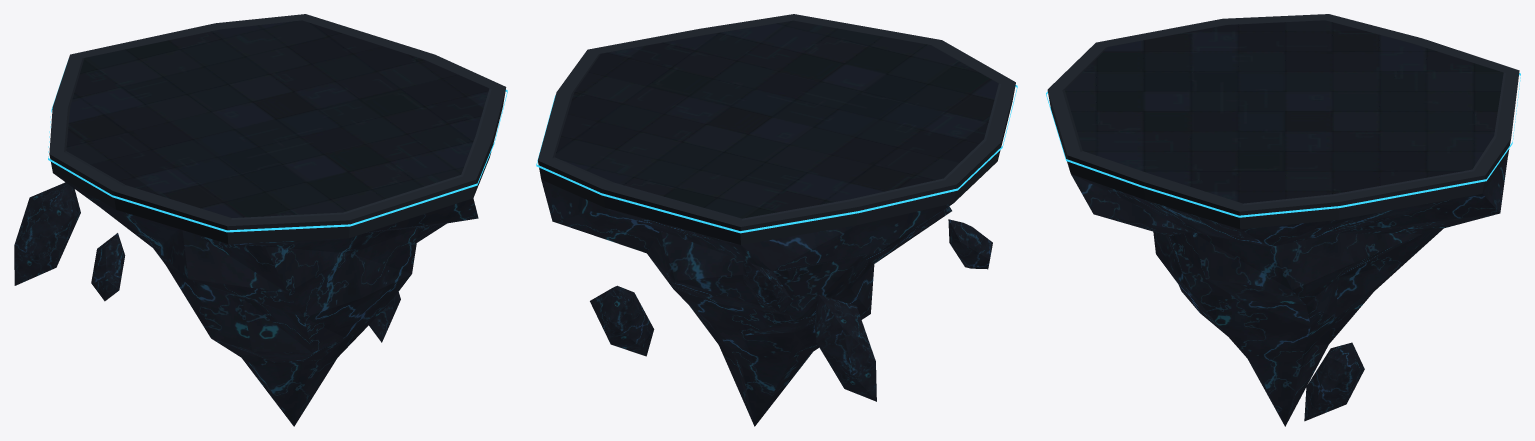
The model's file is ch2-island-m.glb.
3 views of the same model, side by side, from view 1: azimuth 30°, elevation 25°; view 2: azimuth 150°, elevation 25°; view 3: azimuth 270°, elevation 25° (orthographic). The views are drawn at different scales.
Visible parts, largest first — view 1: deck.001, shard_1.001, shard_4, edge.001, shard_3.001; view 2: deck.001, shard_1.001, shard_3.001, shard_4, shard_2.001, edge.001; view 3: deck.001, shard_3.001, edge.001.
Part boxes in pixels (x1,y1,x2,y2): deck.001: [49, 14, 506, 426]; shard_1.001: [14, 182, 80, 285]; shard_4: [91, 233, 125, 301]; edge.001: [48, 65, 507, 232]; shard_3.001: [369, 292, 400, 342]; deck.001: [538, 14, 1015, 426]; shard_1.001: [814, 294, 876, 401]; shard_3.001: [590, 285, 654, 356]; shard_4: [948, 219, 992, 269]; shard_2.001: [743, 261, 792, 312]; edge.001: [536, 85, 1017, 233]; deck.001: [1047, 14, 1519, 426]; shard_3.001: [1304, 342, 1364, 421]; edge.001: [1046, 73, 1520, 217].
Size of the model in its own units: 9.98 by 7.18 by 10.07.
Materials: 4 (2 with a texture image).
